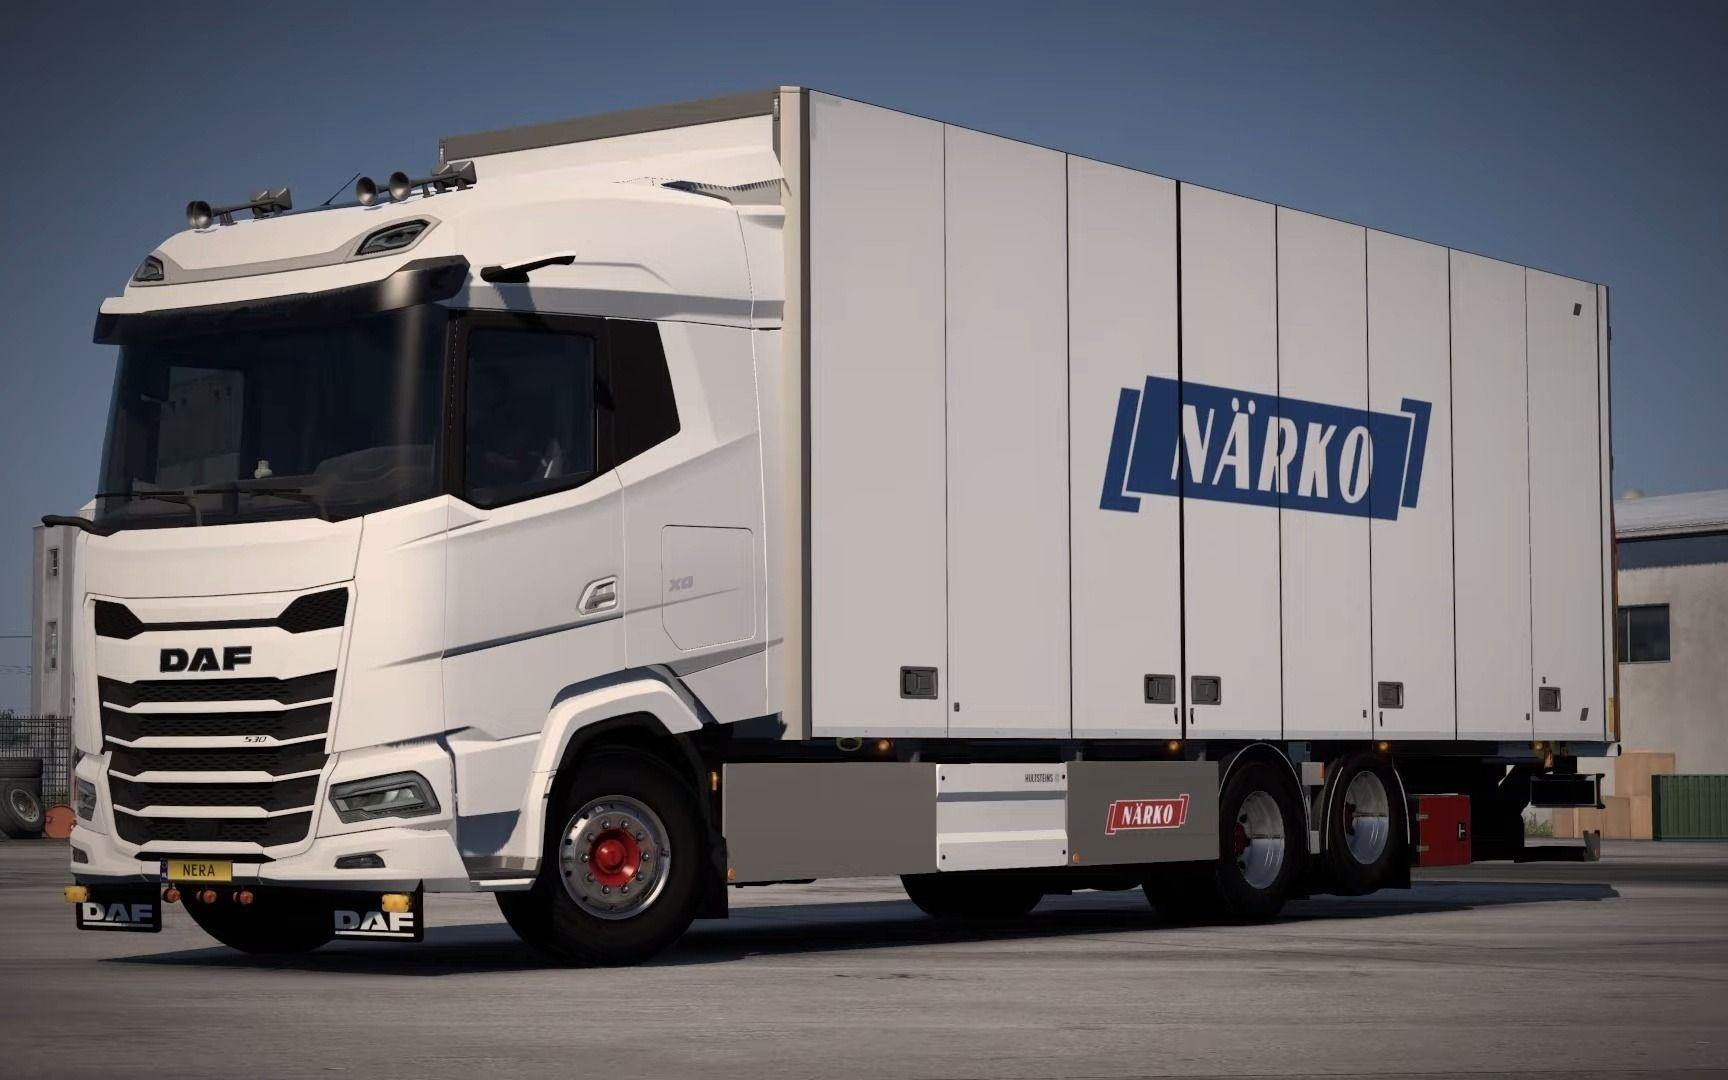truck: (53, 65, 1728, 972)
